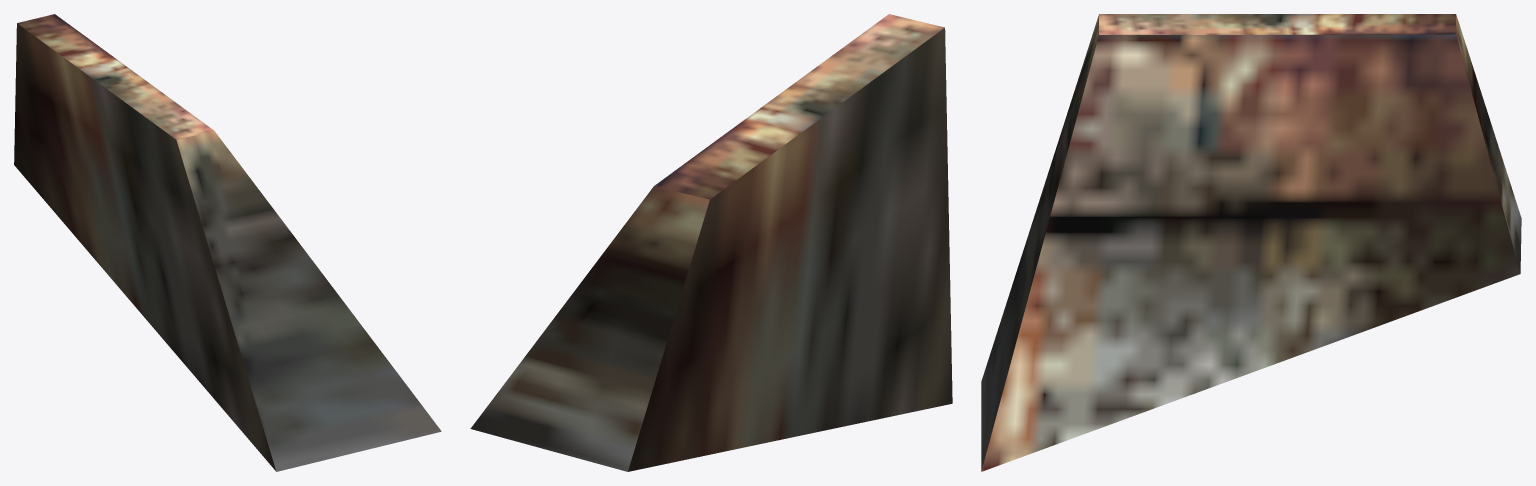
File: USA - Base Infrastructure - Power Plant - Damage State 02 - ABPWRPLANT_d02.glb
3 views of the same model, side by side, from view 1: azimuth 30°, elevation 25°; view 2: azimuth 150°, elevation 25°; view 3: azimuth 270°, elevation 25° (orthographic). The views are drawn at different scales.
Visible parts, largest first — view 1: ABPWRPLANT_D02; view 2: ABPWRPLANT_D02; view 3: ABPWRPLANT_D02.
Boxes of the visible parts, x1=… form: ABPWRPLANT_D02: x1=14, y1=14, x2=441, y2=471; ABPWRPLANT_D02: x1=470, y1=14, x2=952, y2=471; ABPWRPLANT_D02: x1=981, y1=14, x2=1521, y2=471.
Size of the model in its own units: 4.25 by 5.82 by 8.34.
1 material, 1 textured.
